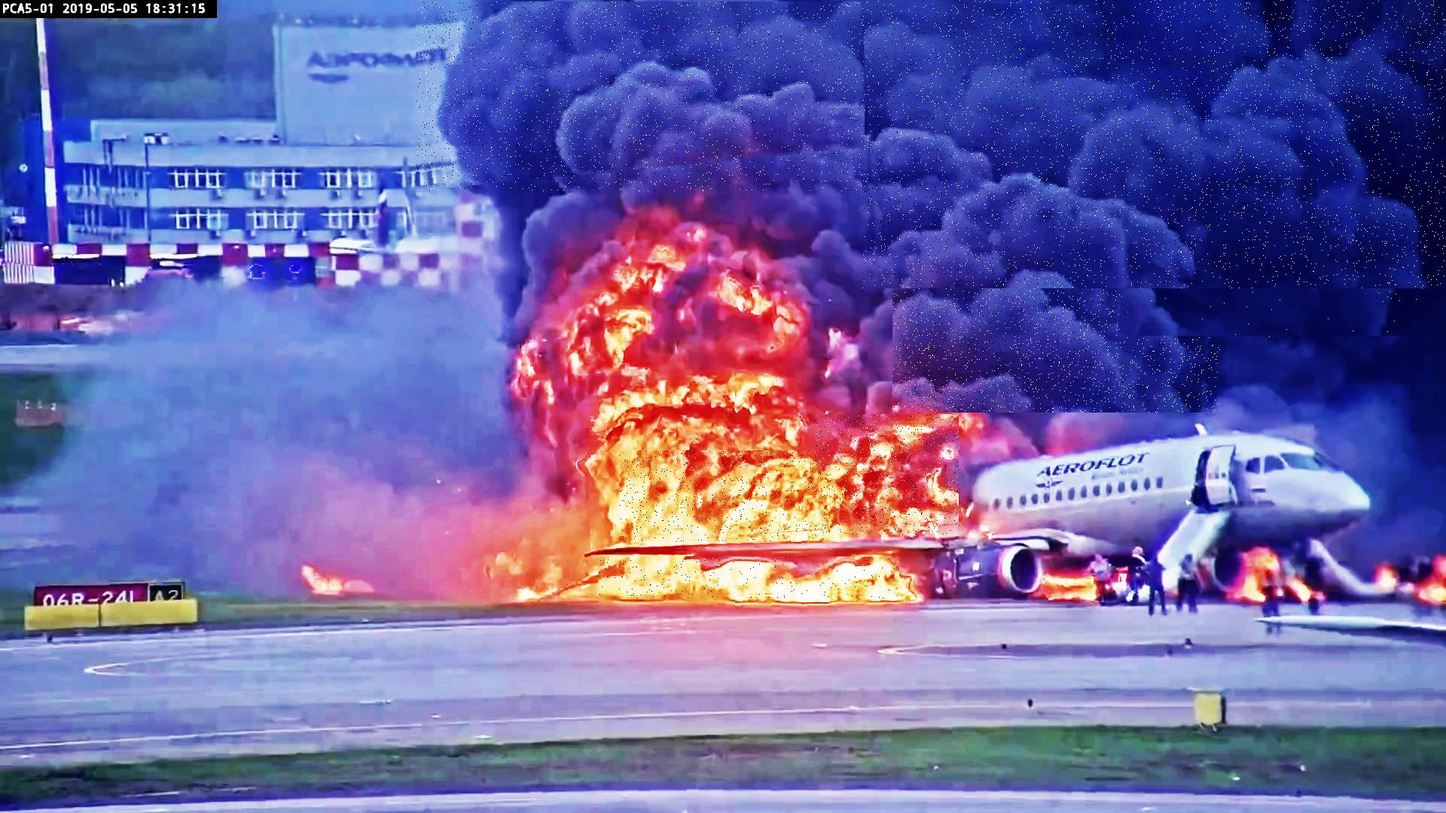fire: (620, 450, 828, 542), (815, 414, 961, 535), (599, 557, 901, 599)
smoke: (863, 0, 1446, 288), (1121, 25, 1433, 338), (893, 138, 1221, 413), (416, 2, 867, 192), (810, 0, 1136, 179)
